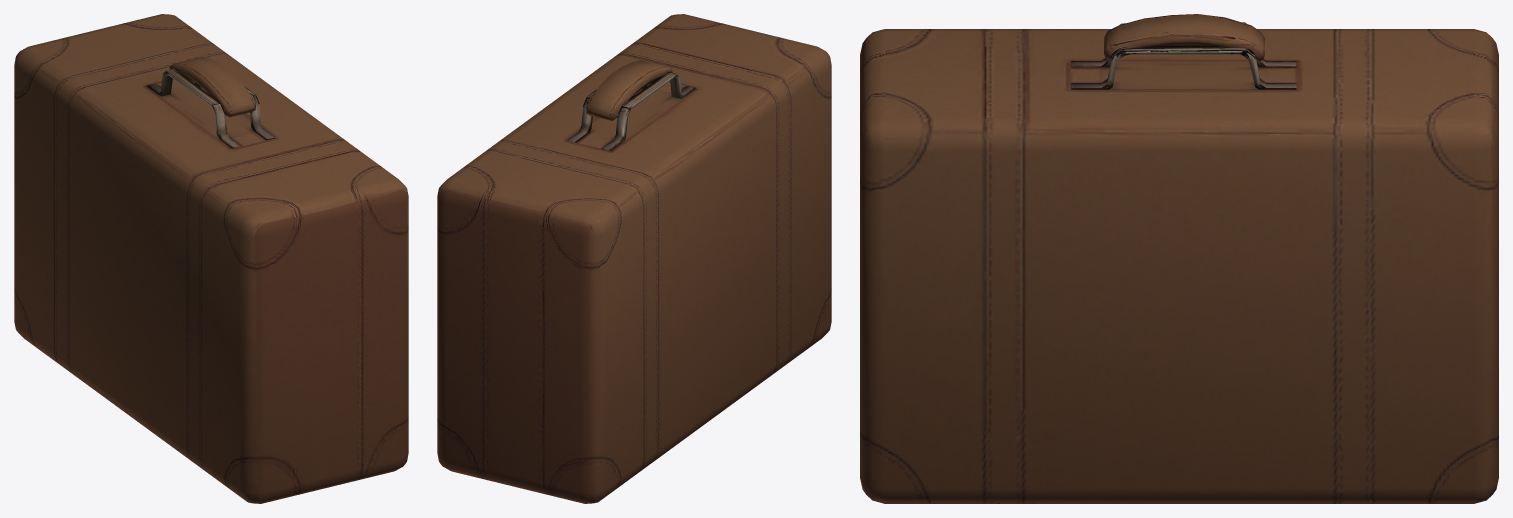
Rendered from tripo_convert_b8c33e1a-caf1-4cb0-b0e4-f2eb60d97002.fbx.
The picture shows the model from 3 angles, left to right: view 1: azimuth 30°, elevation 25°; view 2: azimuth 150°, elevation 25°; view 3: azimuth 270°, elevation 25°; orthographic projection. The views are drawn at different scales.
Visible parts, largest first — view 1: tripo_node_b8c33e1a; view 2: tripo_node_b8c33e1a; view 3: tripo_node_b8c33e1a.
Part boxes in pixels (box(x1,y1,x2,y2)): tripo_node_b8c33e1a: box(14, 14, 408, 503); tripo_node_b8c33e1a: box(437, 14, 831, 503); tripo_node_b8c33e1a: box(860, 14, 1498, 503).
Bounding box in the file's own units: 0.3965 × 0.7559 × 0.998.
1 material, 1 textured.
